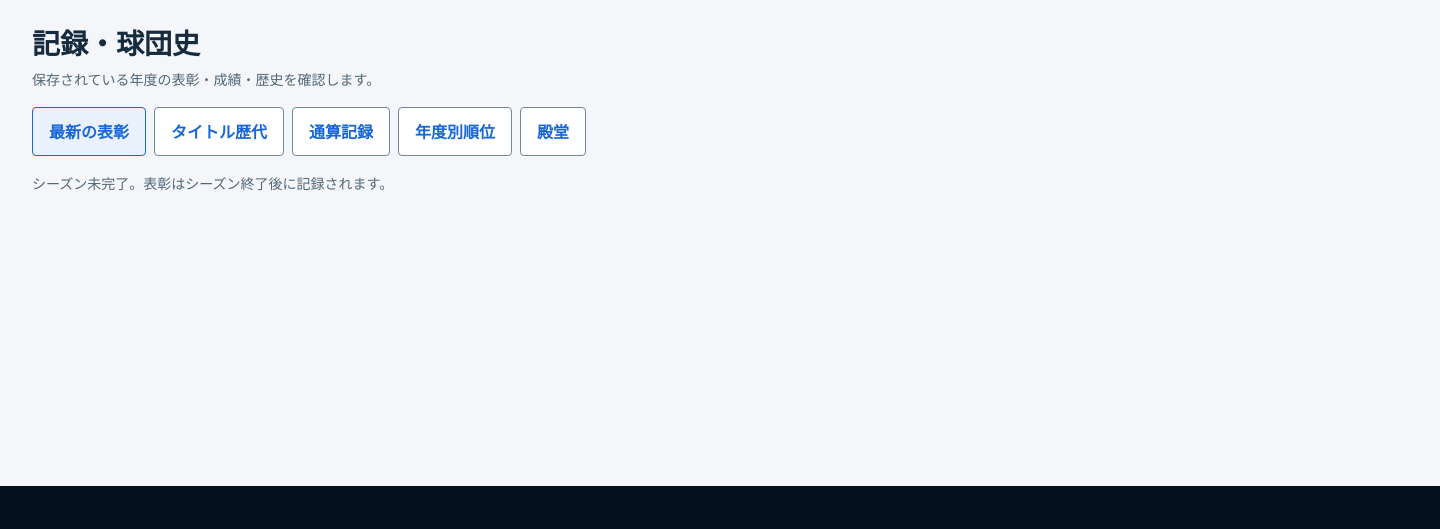
Test: historical titles show only the selected year and preserve tied winners and zero
The image size is (1440, 529).
Click the button "タイトル歴代" at (219, 132), box [154, 108, 284, 156]
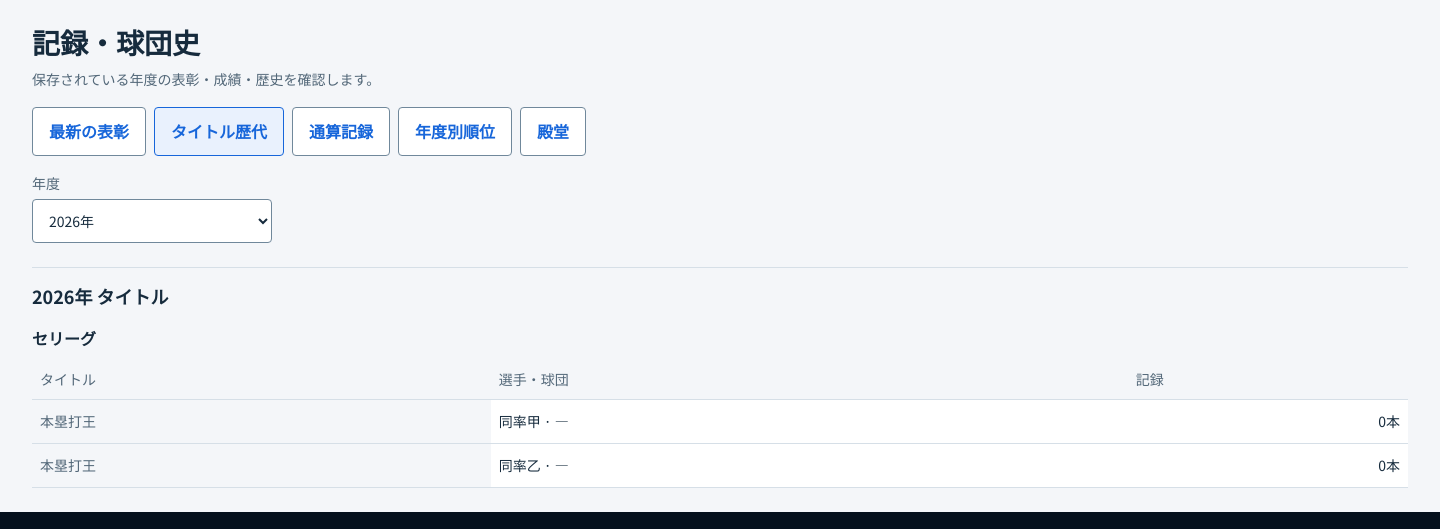
Expected: the text "同率甲" is shown, [499, 411, 541, 431]
Expected: the text "同率乙" is shown, [499, 455, 541, 475]
Expected: the text "0本" is shown, [1128, 400, 1408, 444]
Select "2025年" in the dropdown labelled "年度" at (152, 221), box [32, 199, 272, 243]
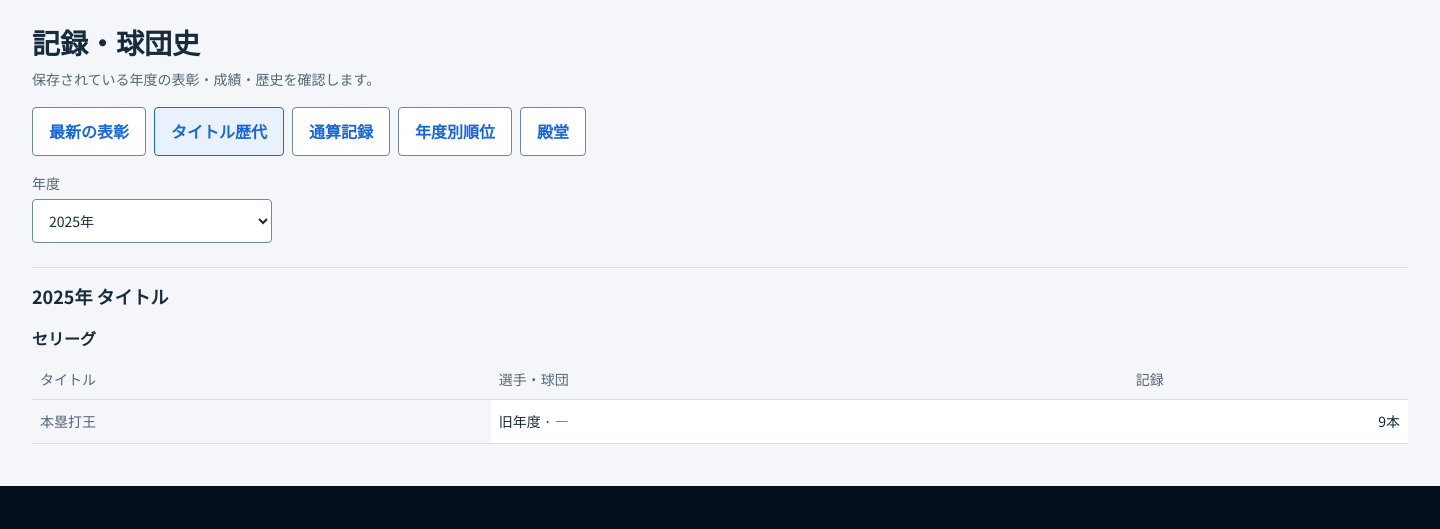
Expected: the text "旧年度" is shown, [499, 411, 541, 431]
Expected: the text "同率甲" is gone
